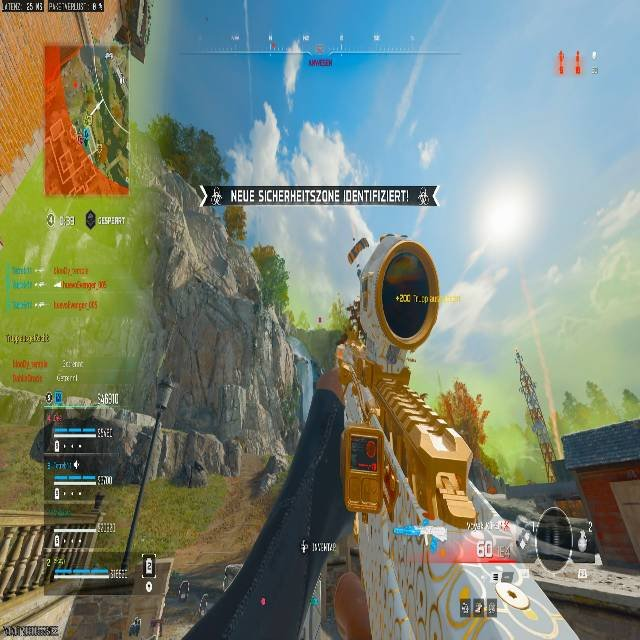player: (199, 593, 209, 616)
